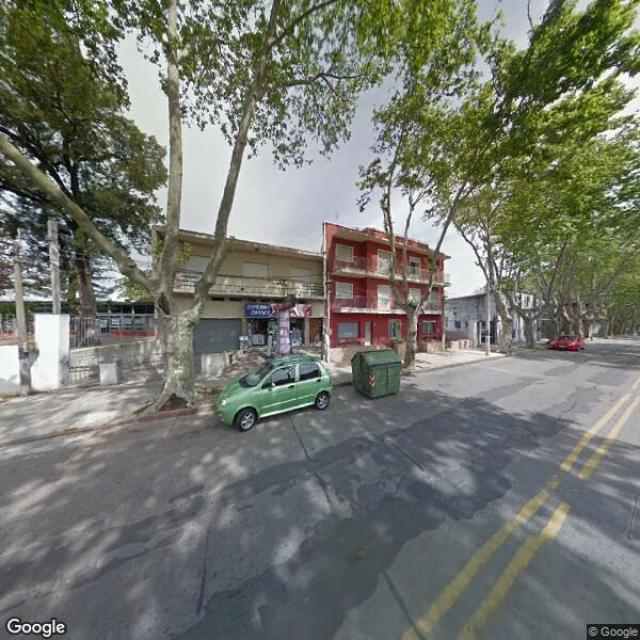garbage container: (347, 343, 408, 408)
